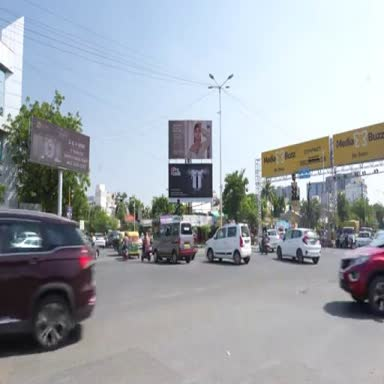Car: (0, 209, 95, 350), (339, 236, 383, 315), (153, 221, 196, 263), (206, 224, 251, 264), (277, 229, 320, 264), (10, 236, 41, 247), (267, 230, 280, 251), (356, 232, 371, 247), (107, 231, 119, 247), (95, 234, 106, 248)
